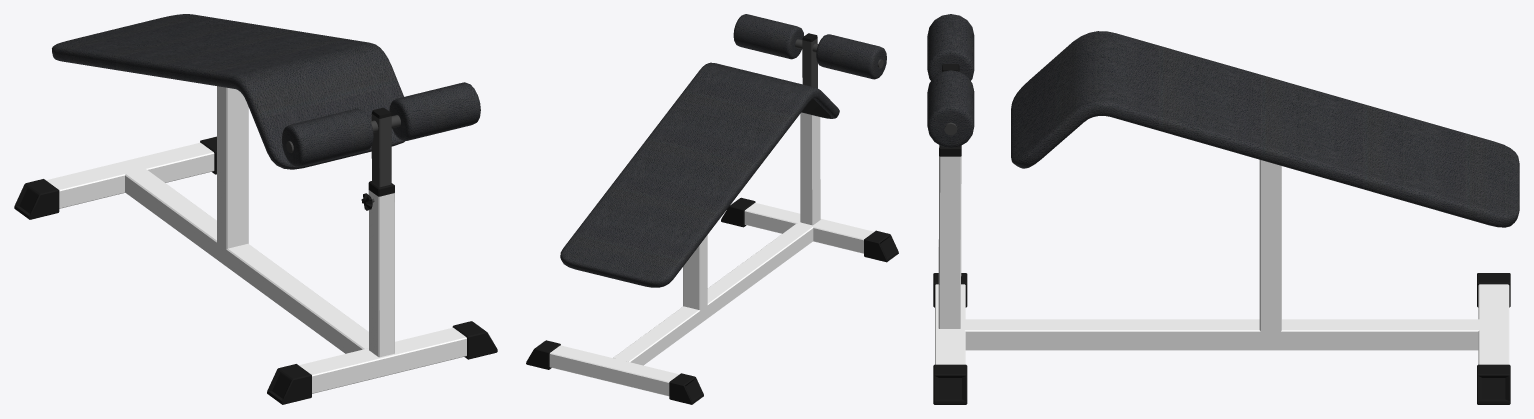
Rendered from Bench_5.FBX.
3 renders of one model, left to right at view 1: azimuth 30°, elevation 25°; view 2: azimuth 150°, elevation 25°; view 3: azimuth 270°, elevation 25°, orthographic. The views are drawn at different scales.
Parts seen in each view (by area): view 1: Bench_5, 1; view 2: Bench_5, 1; view 3: Bench_5, 1.
Boxes of the visible parts, <box> form: Bench_5: <box>14,14,497,404</box>; 1: <box>281,82,480,187</box>; Bench_5: <box>526,62,898,404</box>; 1: <box>733,14,886,88</box>; Bench_5: <box>933,31,1519,404</box>; 1: <box>927,14,974,147</box>.
Bounding box in the file's own units: 0.5793 × 1.28 × 0.6874.
